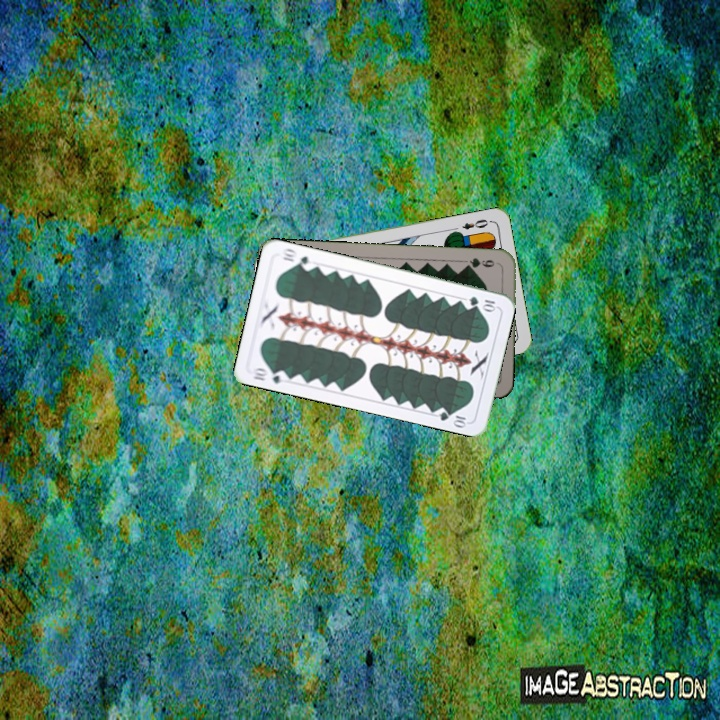EO: (458, 215, 494, 232)
G10: (248, 364, 290, 386), (465, 292, 499, 313)
G9: (461, 254, 502, 270)
